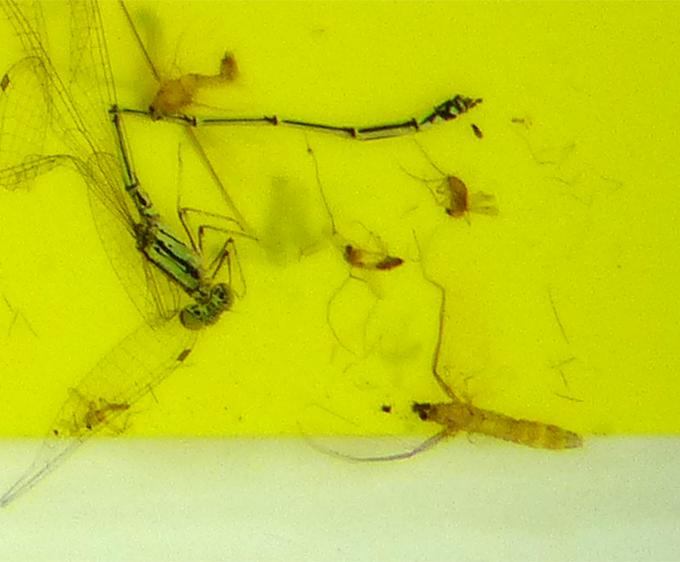Ephemeroptera: (396, 295, 580, 462), (146, 49, 242, 126)
Nematocera: (434, 174, 492, 222), (339, 238, 408, 273), (80, 398, 132, 434)
Odonata: (100, 100, 485, 333)
